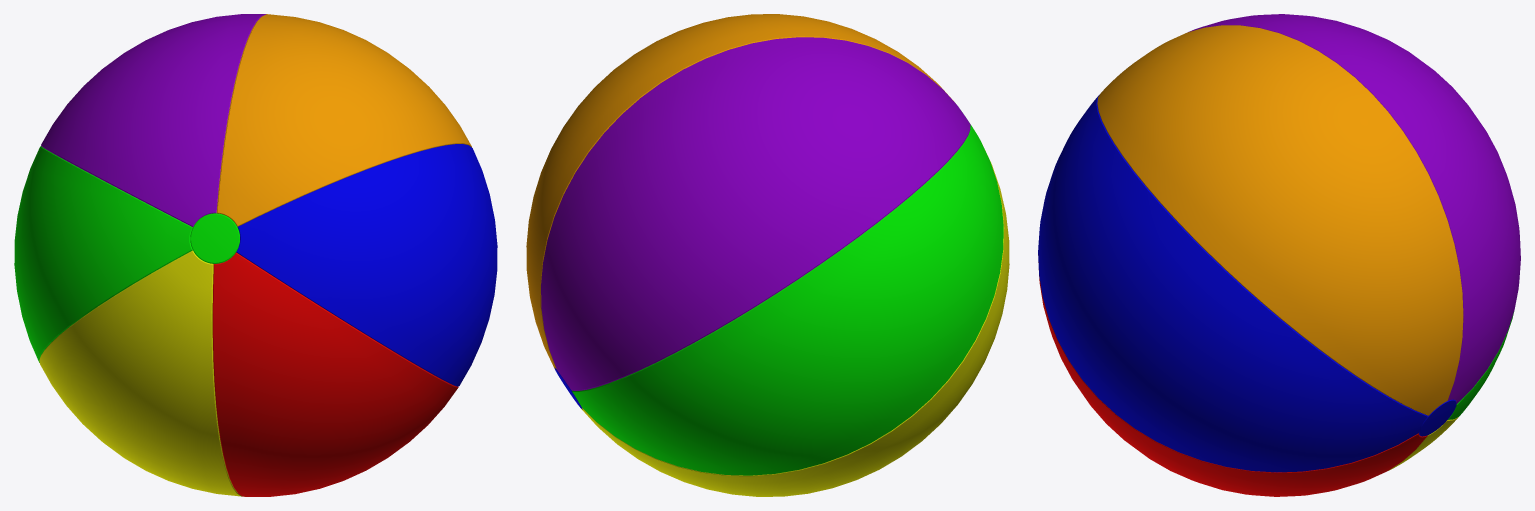
The model's file is beachball.fbx.
3 views of the same model, side by side, from view 1: azimuth 30°, elevation 25°; view 2: azimuth 150°, elevation 25°; view 3: azimuth 270°, elevation 25° (orthographic).
Parts seen in each view (by area): view 1: beachball; view 2: beachball; view 3: beachball.
Part boxes in pixels (x1,y1,x2,y2): beachball: [14, 14, 497, 496]; beachball: [526, 14, 1009, 496]; beachball: [1038, 14, 1520, 496].
Bounding box in the file's own units: 9991 × 9992 × 9998.
